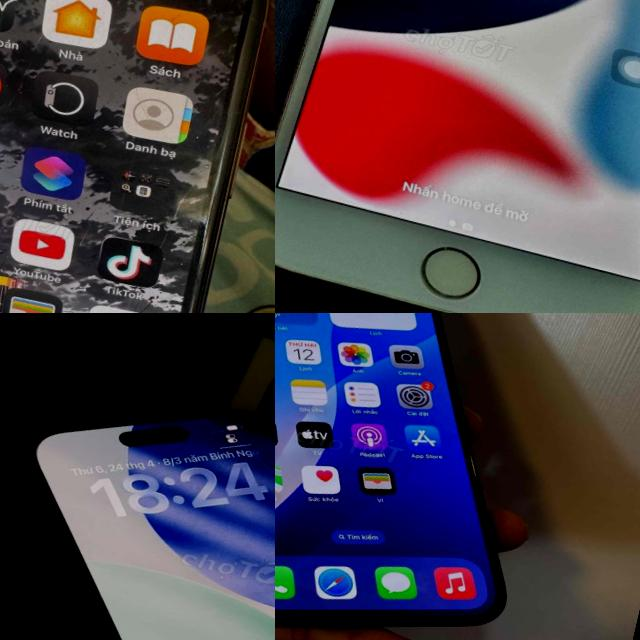gen_15: (275, 313, 587, 640)
gen_16: (0, 358, 275, 640)
gen_7_8: (275, 0, 640, 313)
gen_x_xs: (0, 0, 275, 313)
physical_damage: (65, 0, 275, 57)
scratch: (275, 42, 305, 172), (300, 0, 358, 51)
